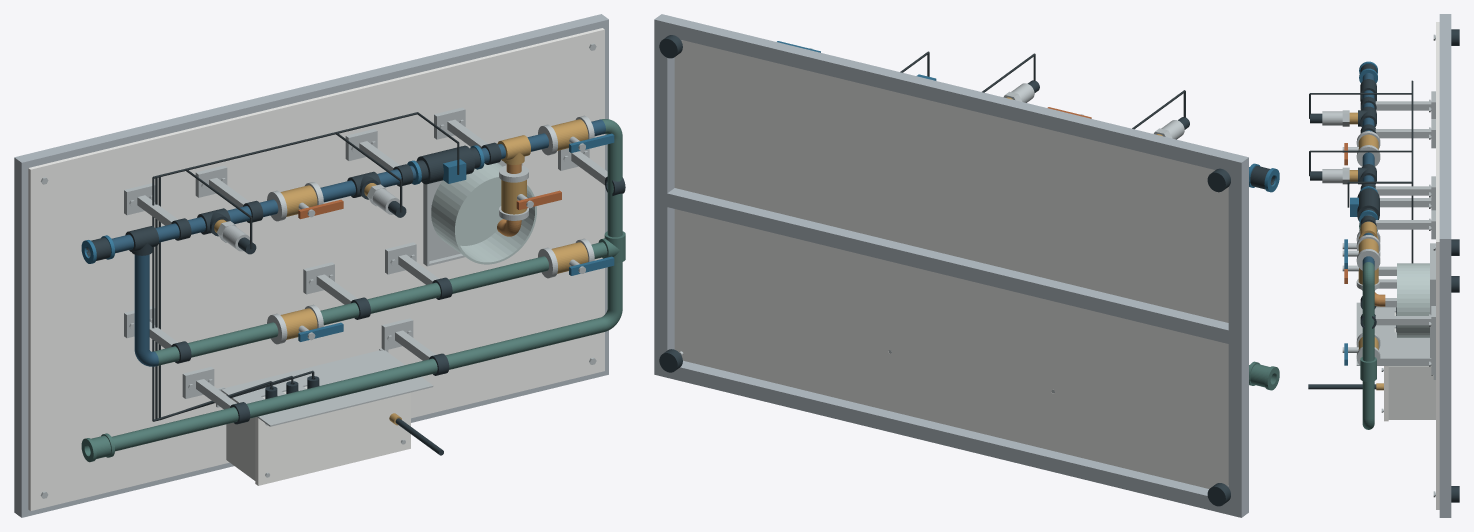
File: bench_layout.obj
3 views of the same model, side by side, from view 1: azimuth 30°, elevation 25°; view 2: azimuth 150°, elevation 25°; view 3: azimuth 270°, elevation 25° (orthographic). The views are drawn at different scales.
Parts seen in each view (by area): view 1: removable_deck, rail_rear, electronics_lid, return_out, open_measuring_vessel, perforated_splash_guard, rail_left, B_to_Bload, rail_front, B_to_switch, B_vertical, electronics_shell (+12 smaller); view 2: removable_deck, rail_rear, rail_front, crossbeam, rail_left, rail_right; view 3: rail_right, rail_rear, electronics_shell, open_measuring_vessel, removable_deck, perforated_splash_guard, return_upper, support_9_post, support_3_post, removable_catch_tray, support_0_post, support_2_post (+22 smaller).
Part boxes in pixels (<box>): removable_deck: <box>28,28,604,511</box>; rail_rear: <box>14,14,608,176</box>; electronics_lid: <box>255,392,410,485</box>; return_out: <box>112,317,605,451</box>; open_measuring_vessel: <box>431,163,536,264</box>; perforated_splash_guard: <box>216,348,433,426</box>; rail_left: <box>14,171,28,503</box>; B_to_Bload: <box>320,256,548,325</box>; rail_front: <box>14,361,608,517</box>; B_to_switch: <box>154,322,278,365</box>; B_vertical: <box>134,254,149,351</box>; electronics_shell: <box>226,386,307,480</box>; removable_deck: <box>674,40,1228,488</box>; rail_rear: <box>654,14,1248,176</box>; rail_front: <box>654,360,1248,517</box>; crossbeam: <box>667,188,1228,343</box>; rail_left: <box>1228,171,1248,504</box>; rail_right: <box>654,33,674,361</box>; rail_right: <box>1439,249,1451,507</box>; rail_rear: <box>1439,14,1451,249</box>; electronics_shell: <box>1388,312,1435,419</box>; open_measuring_vessel: <box>1397,263,1429,337</box>; removable_deck: <box>1436,22,1439,509</box>; perforated_splash_guard: <box>1356,302,1435,379</box>; return_upper: <box>1362,283,1374,361</box>; support_9_post: <box>1375,316,1431,325</box>; support_3_post: <box>1375,220,1431,229</box>; removable_catch_tray: <box>1430,243,1435,357</box>; support_0_post: <box>1375,101,1431,110</box>; support_2_post: <box>1375,186,1431,195</box>.
Bounding box in the file's own units: 900 × 520 × 256.
